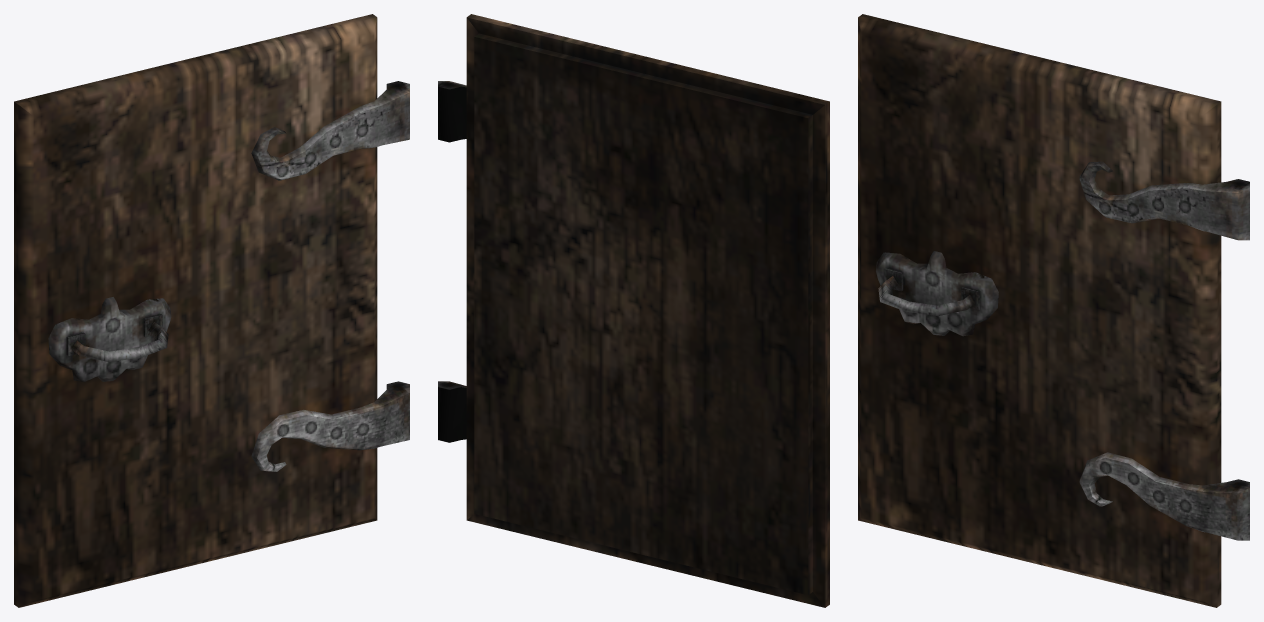
The model's file is work_desk_door_worn.dae.
3 views of the same model, side by side, from view 1: azimuth 30°, elevation 25°; view 2: azimuth 150°, elevation 25°; view 3: azimuth 330°, elevation 25° (orthographic).
Visible parts, largest first — view 1: work_desk_door_mesh; view 2: work_desk_door_mesh; view 3: work_desk_door_mesh.
Boxes of the visible parts, left/top/right/bottom form: work_desk_door_mesh: left=14, top=14, right=409, bottom=607; work_desk_door_mesh: left=438, top=14, right=829, bottom=607; work_desk_door_mesh: left=858, top=14, right=1249, bottom=607.
Bounding box in the file's own units: 0.5794 × 0.7114 × 0.1198.
